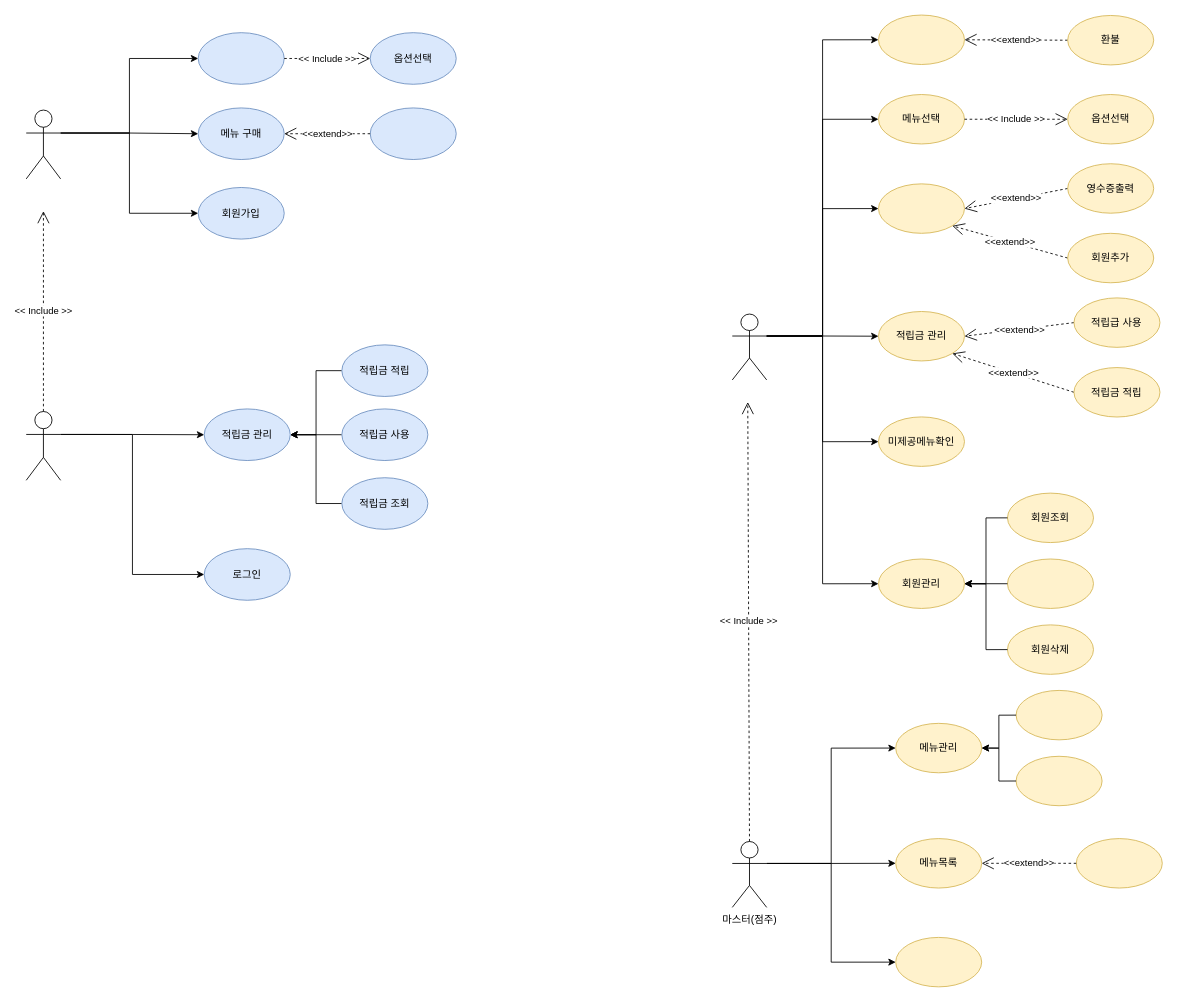
Image size: 1177x1002. Some labels were removed from this diagram. Here are the shapes that lost their labels. From the top down, the centre of each, then its label:
At pixel 240 58: "메뉴 선택".
At pixel 921 39: "주문 관리".
At pixel 43 144: "손님".
At pixel 412 133: "영수증 출력".
At pixel 921 208: "메뉴주문".
At pixel 749 346: "어드민(알바)".
At pixel 43 445: "회원".
At pixel 1050 583: "회원수정".
At pixel 1058 715: "메뉴수정".
At pixel 1058 780: "메뉴추가".
At pixel 1118 863: "메뉴삭제".
At pixel 938 962: "매출관리".
